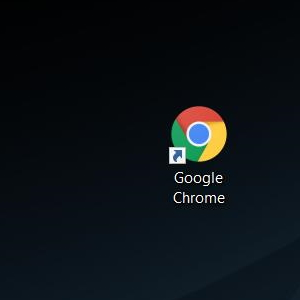chrome: (168, 106, 226, 164)
